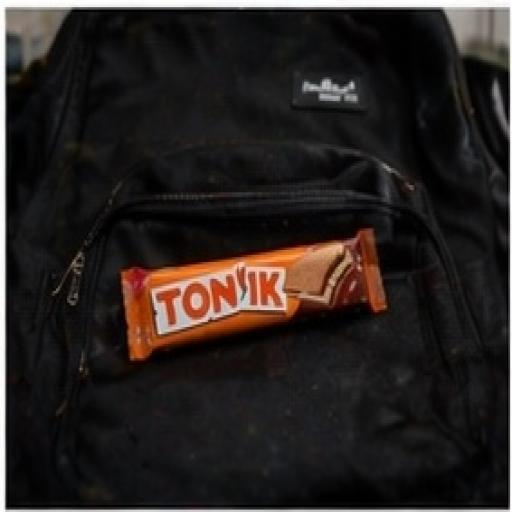tonik: (44, 168, 442, 409)
